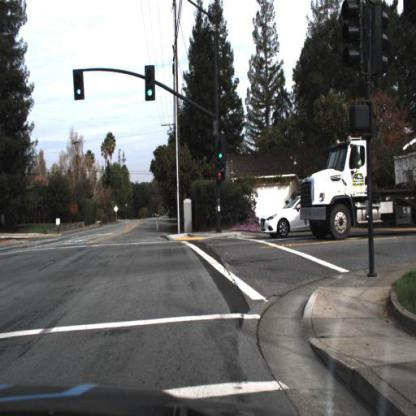car: (260, 191, 313, 239), (265, 198, 307, 235)
trafficLight-Green: (145, 66, 157, 105), (73, 70, 86, 103), (75, 69, 85, 105), (217, 134, 227, 164)
truck: (301, 134, 416, 244)
